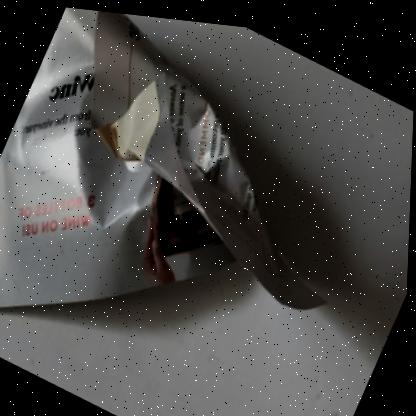Paper: (0, 6, 327, 307)
